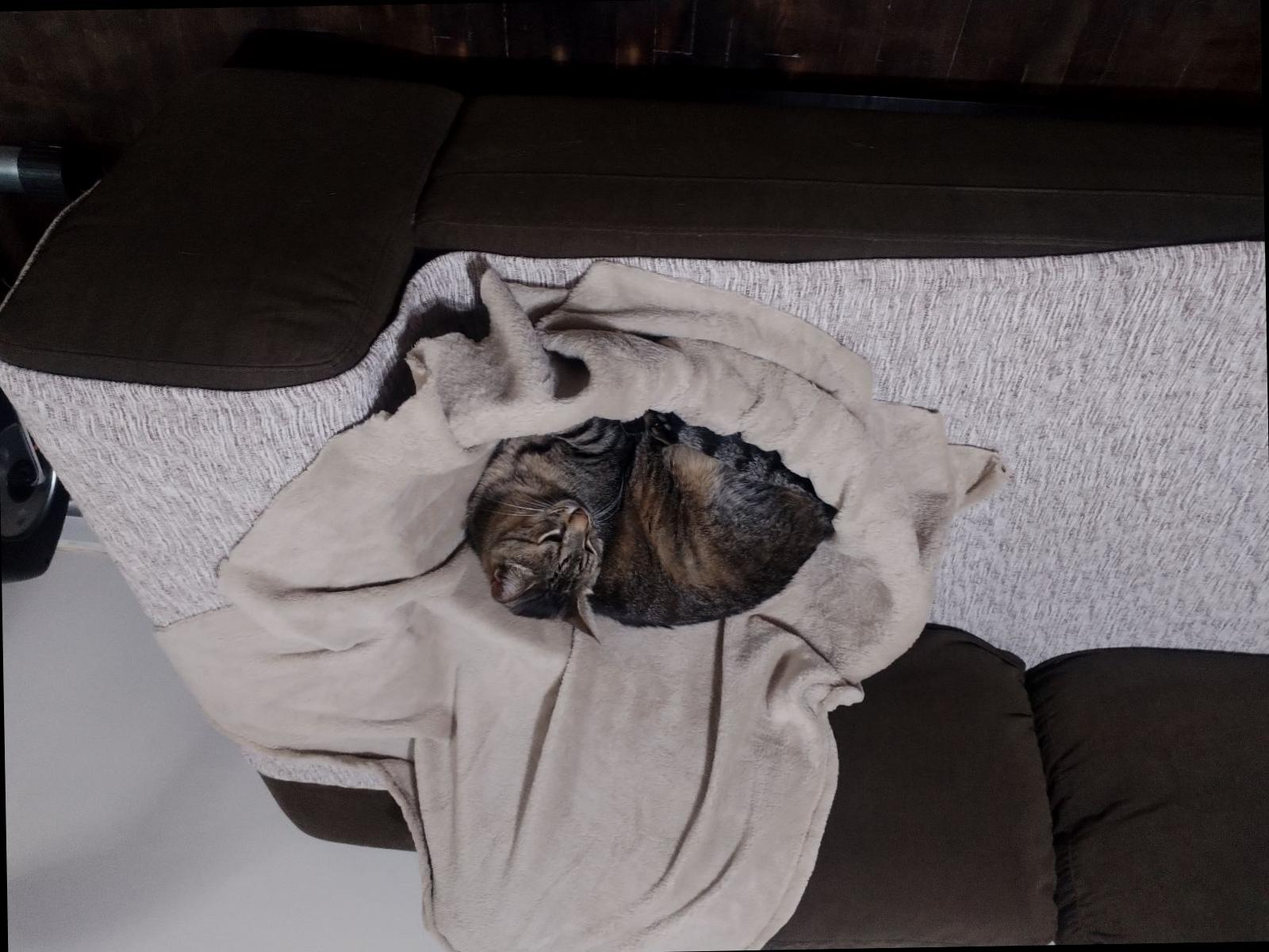macka: (465, 403, 840, 645)
